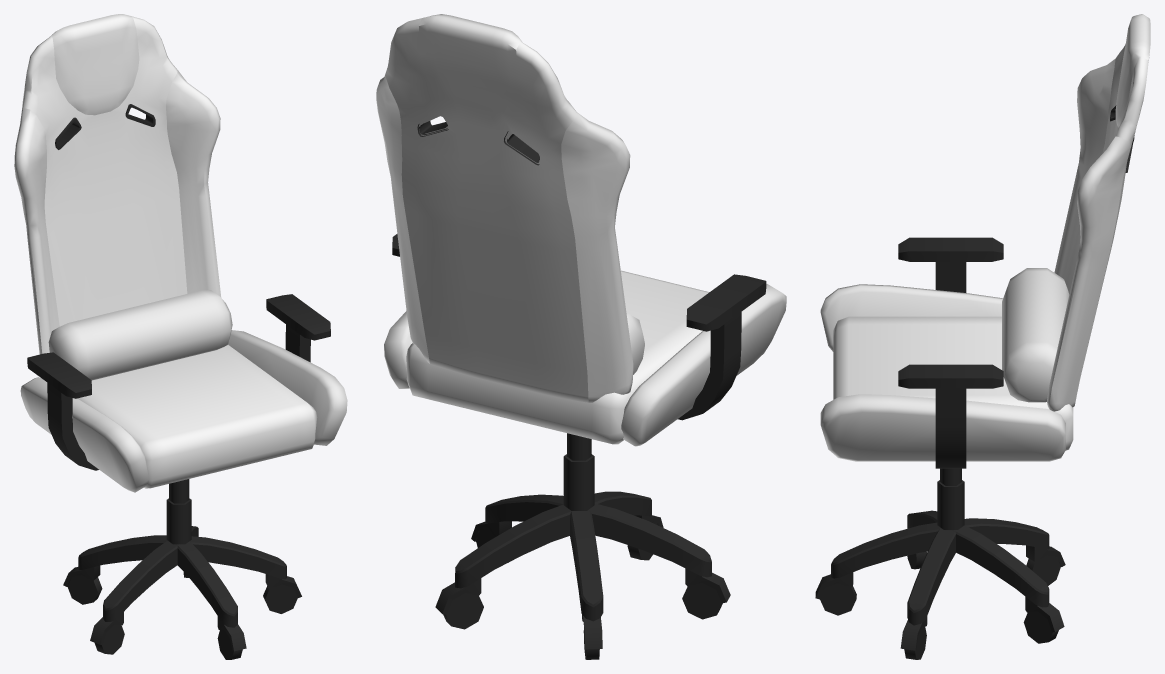
File: chair.fbx
3 views of the same model, side by side, from view 1: azimuth 30°, elevation 25°; view 2: azimuth 150°, elevation 25°; view 3: azimuth 270°, elevation 25° (orthographic). The views are drawn at different scales.
Parts seen in each view (by area): view 1: polySurface13, polySurface10, GamerChair_01, polySurface12, polySurface11, polySurface15, polySurface20, polySurface16; view 2: polySurface13, GamerChair_01, polySurface10, polySurface11, polySurface15, polySurface16, polySurface12; view 3: polySurface11, polySurface13, GamerChair_01, polySurface10, polySurface12, polySurface15, polySurface16, polySurface20.
Part boxes in pixels (box(x1,y1,x2,y2)): polySurface13: box(14, 14, 221, 354); polySurface10: box(78, 345, 317, 488); GamerChair_01: box(63, 479, 301, 659); polySurface12: box(48, 290, 232, 380); polySurface11: box(20, 330, 347, 492); polySurface15: box(47, 324, 310, 470); polySurface20: box(266, 294, 330, 340); polySurface16: box(27, 352, 91, 398); polySurface13: box(376, 14, 633, 402); GamerChair_01: box(435, 433, 730, 659); polySurface10: box(406, 270, 709, 444); polySurface11: box(384, 284, 786, 446); polySurface15: box(678, 312, 741, 420); polySurface16: box(686, 274, 766, 331); polySurface12: box(626, 313, 644, 374); polySurface11: box(820, 284, 1065, 461); polySurface13: box(1047, 14, 1150, 411); GamerChair_01: box(815, 468, 1065, 659); polySurface10: box(833, 316, 1073, 450); polySurface12: box(1002, 268, 1069, 402); polySurface15: box(935, 262, 966, 468); polySurface16: box(898, 237, 1003, 261); polySurface20: box(898, 364, 1003, 388).
Size of the model in its own units: 56.41 by 109 by 56.81.
